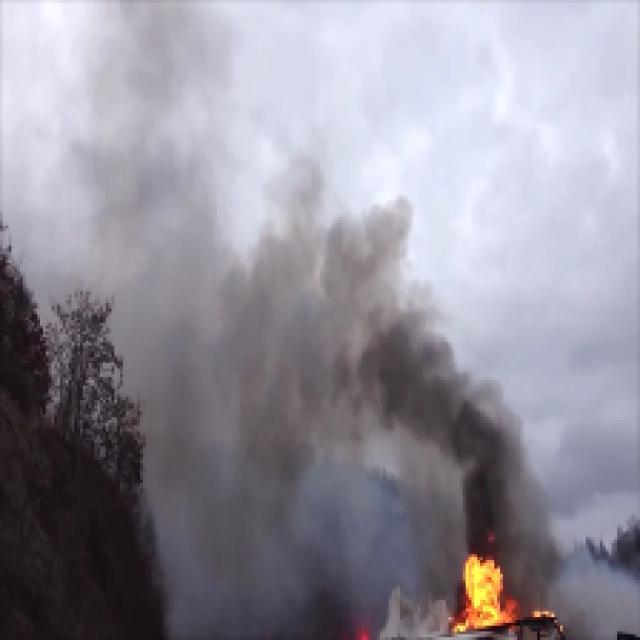fire: (460, 556, 512, 632)
smoke: (138, 267, 388, 639), (6, 4, 226, 260), (391, 317, 548, 538)
